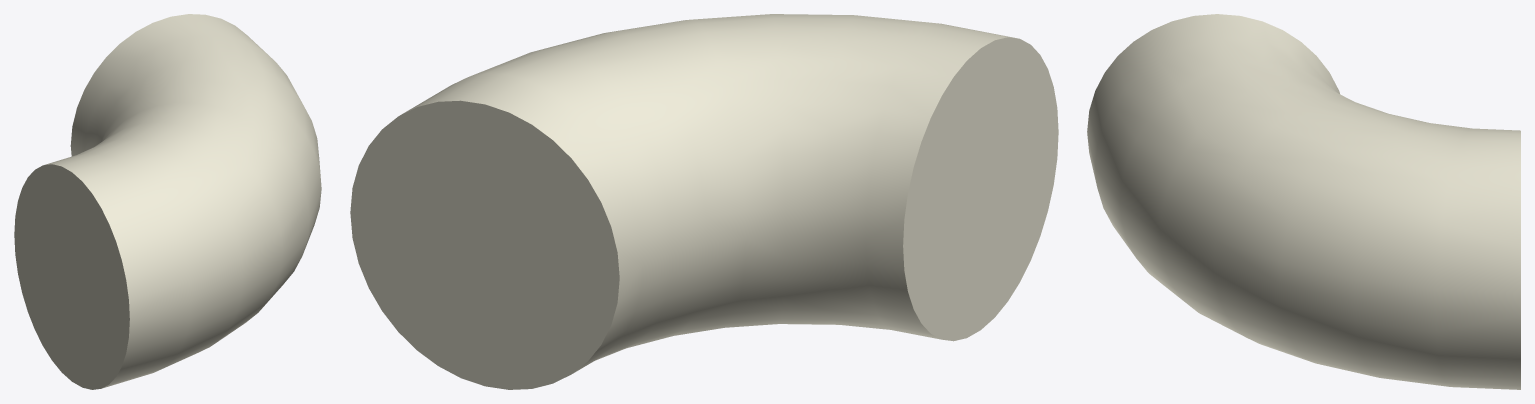
Rendered from Shape_Pipe_90.glb.
3 views of the same model, side by side, from view 1: azimuth 30°, elevation 25°; view 2: azimuth 150°, elevation 25°; view 3: azimuth 270°, elevation 25° (orthographic). The views are drawn at different scales.
Parts seen in each view (by area): view 1: Shape_Pipe_90; view 2: Shape_Pipe_90; view 3: Shape_Pipe_90.
Part boxes in pixels (x1,y1,x2,y2): Shape_Pipe_90: (14, 14, 321, 389); Shape_Pipe_90: (350, 14, 1058, 389); Shape_Pipe_90: (1087, 14, 1520, 389).
Bounding box in the file's own units: 0.5 × 0.3 × 0.5.
